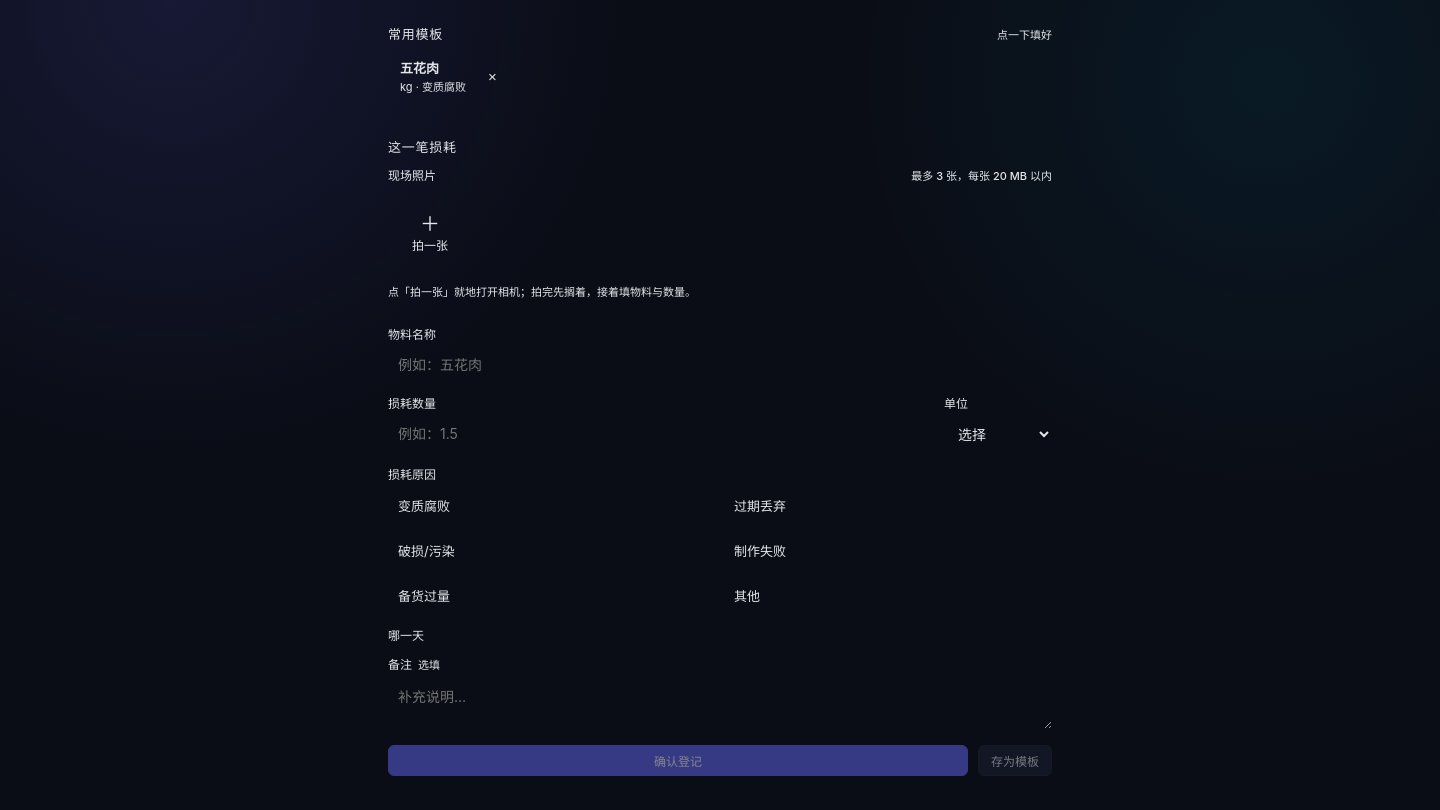
Scenario: 损耗登记页（员工端） › 选了「其他」时把备注标成必填（判据仍在服务端）
This screenshot has width=1440, height=810.
Expected: the text "选了「其他」要说明" is not shown
Click the button with class "loss-reason" showing "其他".
click(747, 596)  # box [724,577,1052,614]
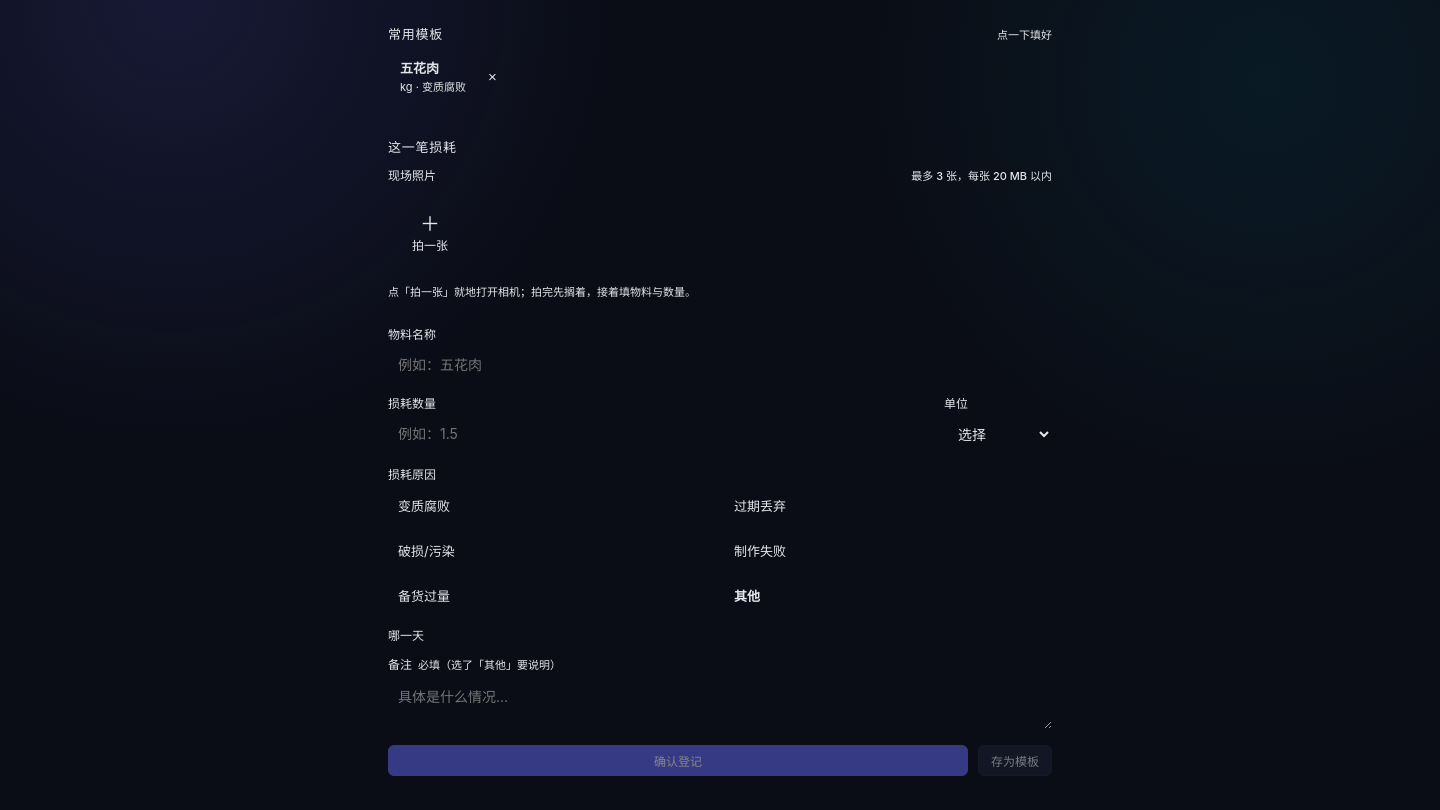
Now the text "选了「其他」要说明" is shown, box [418,658,561,672]
